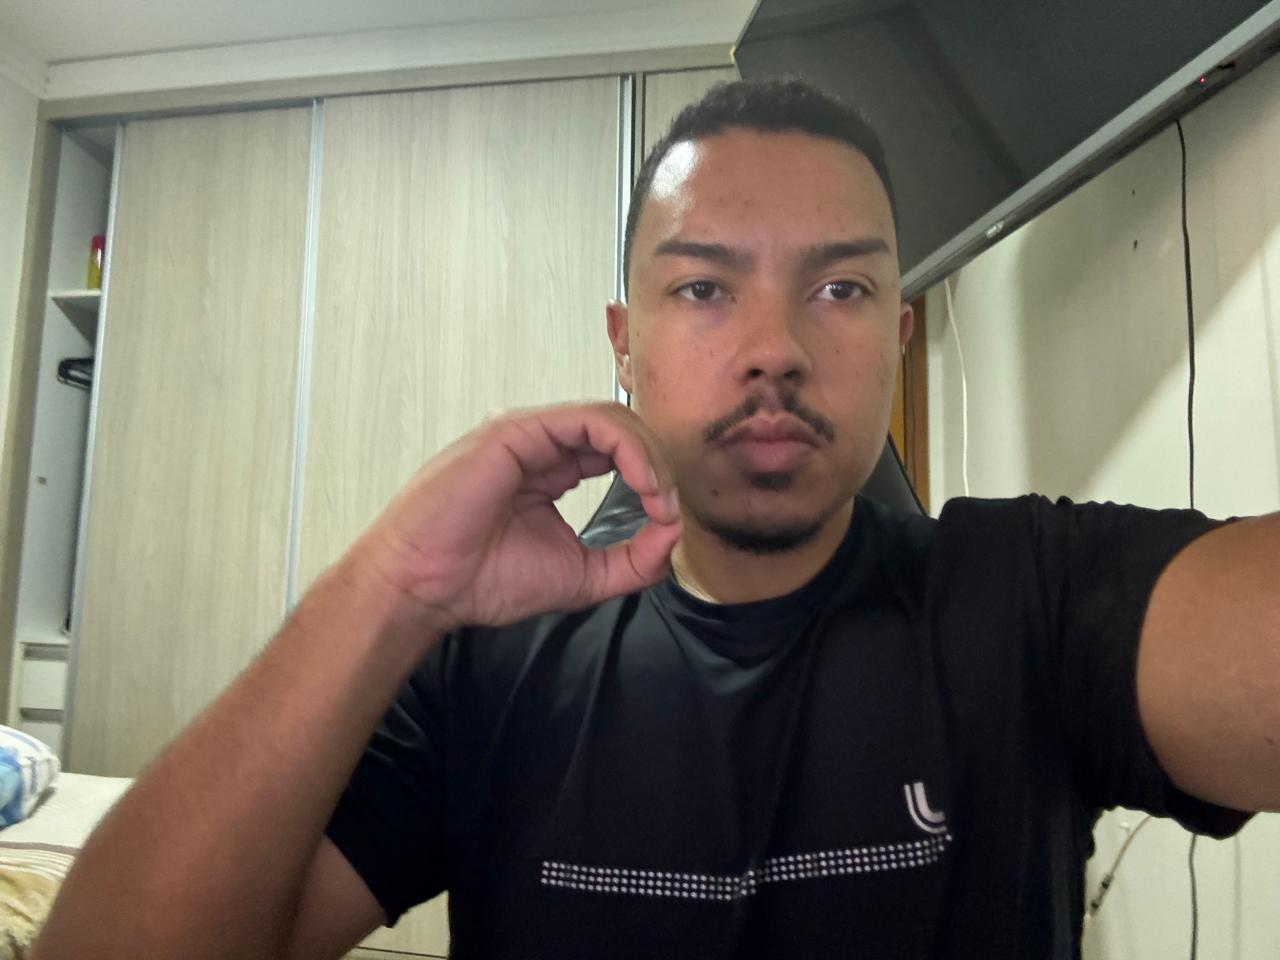o: (339, 388, 691, 640)
